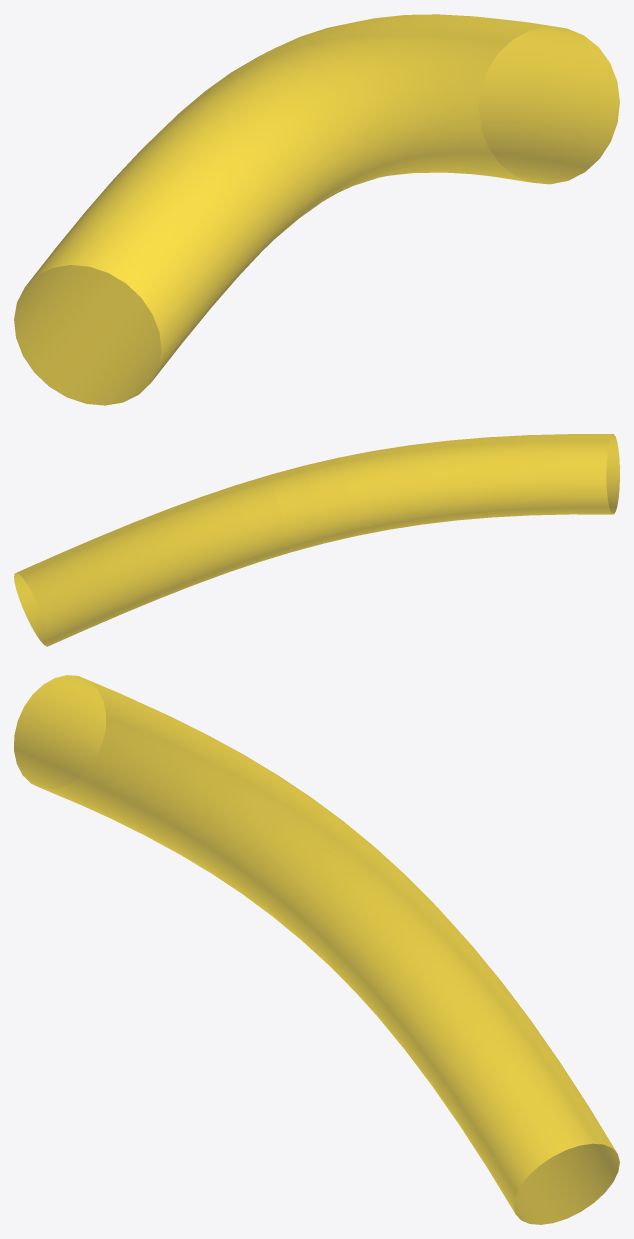
The model's file is Event_40932208_track_22.fbx.
3 views of the same model, one above another, from view 1: azimuth 30°, elevation 25°; view 2: azimuth 150°, elevation 25°; view 3: azimuth 270°, elevation 25° (orthographic). The views are drawn at different scales.
Visible parts, largest first — view 1: Model; view 2: Model; view 3: Model.
Part boxes in pixels (box(x1,y1,x2,y2)): Model: box(14, 14, 619, 405); Model: box(14, 434, 619, 646); Model: box(14, 675, 619, 1224).
Size of the model in its own units: 0.2582 by 0.1001 by 0.2041.
